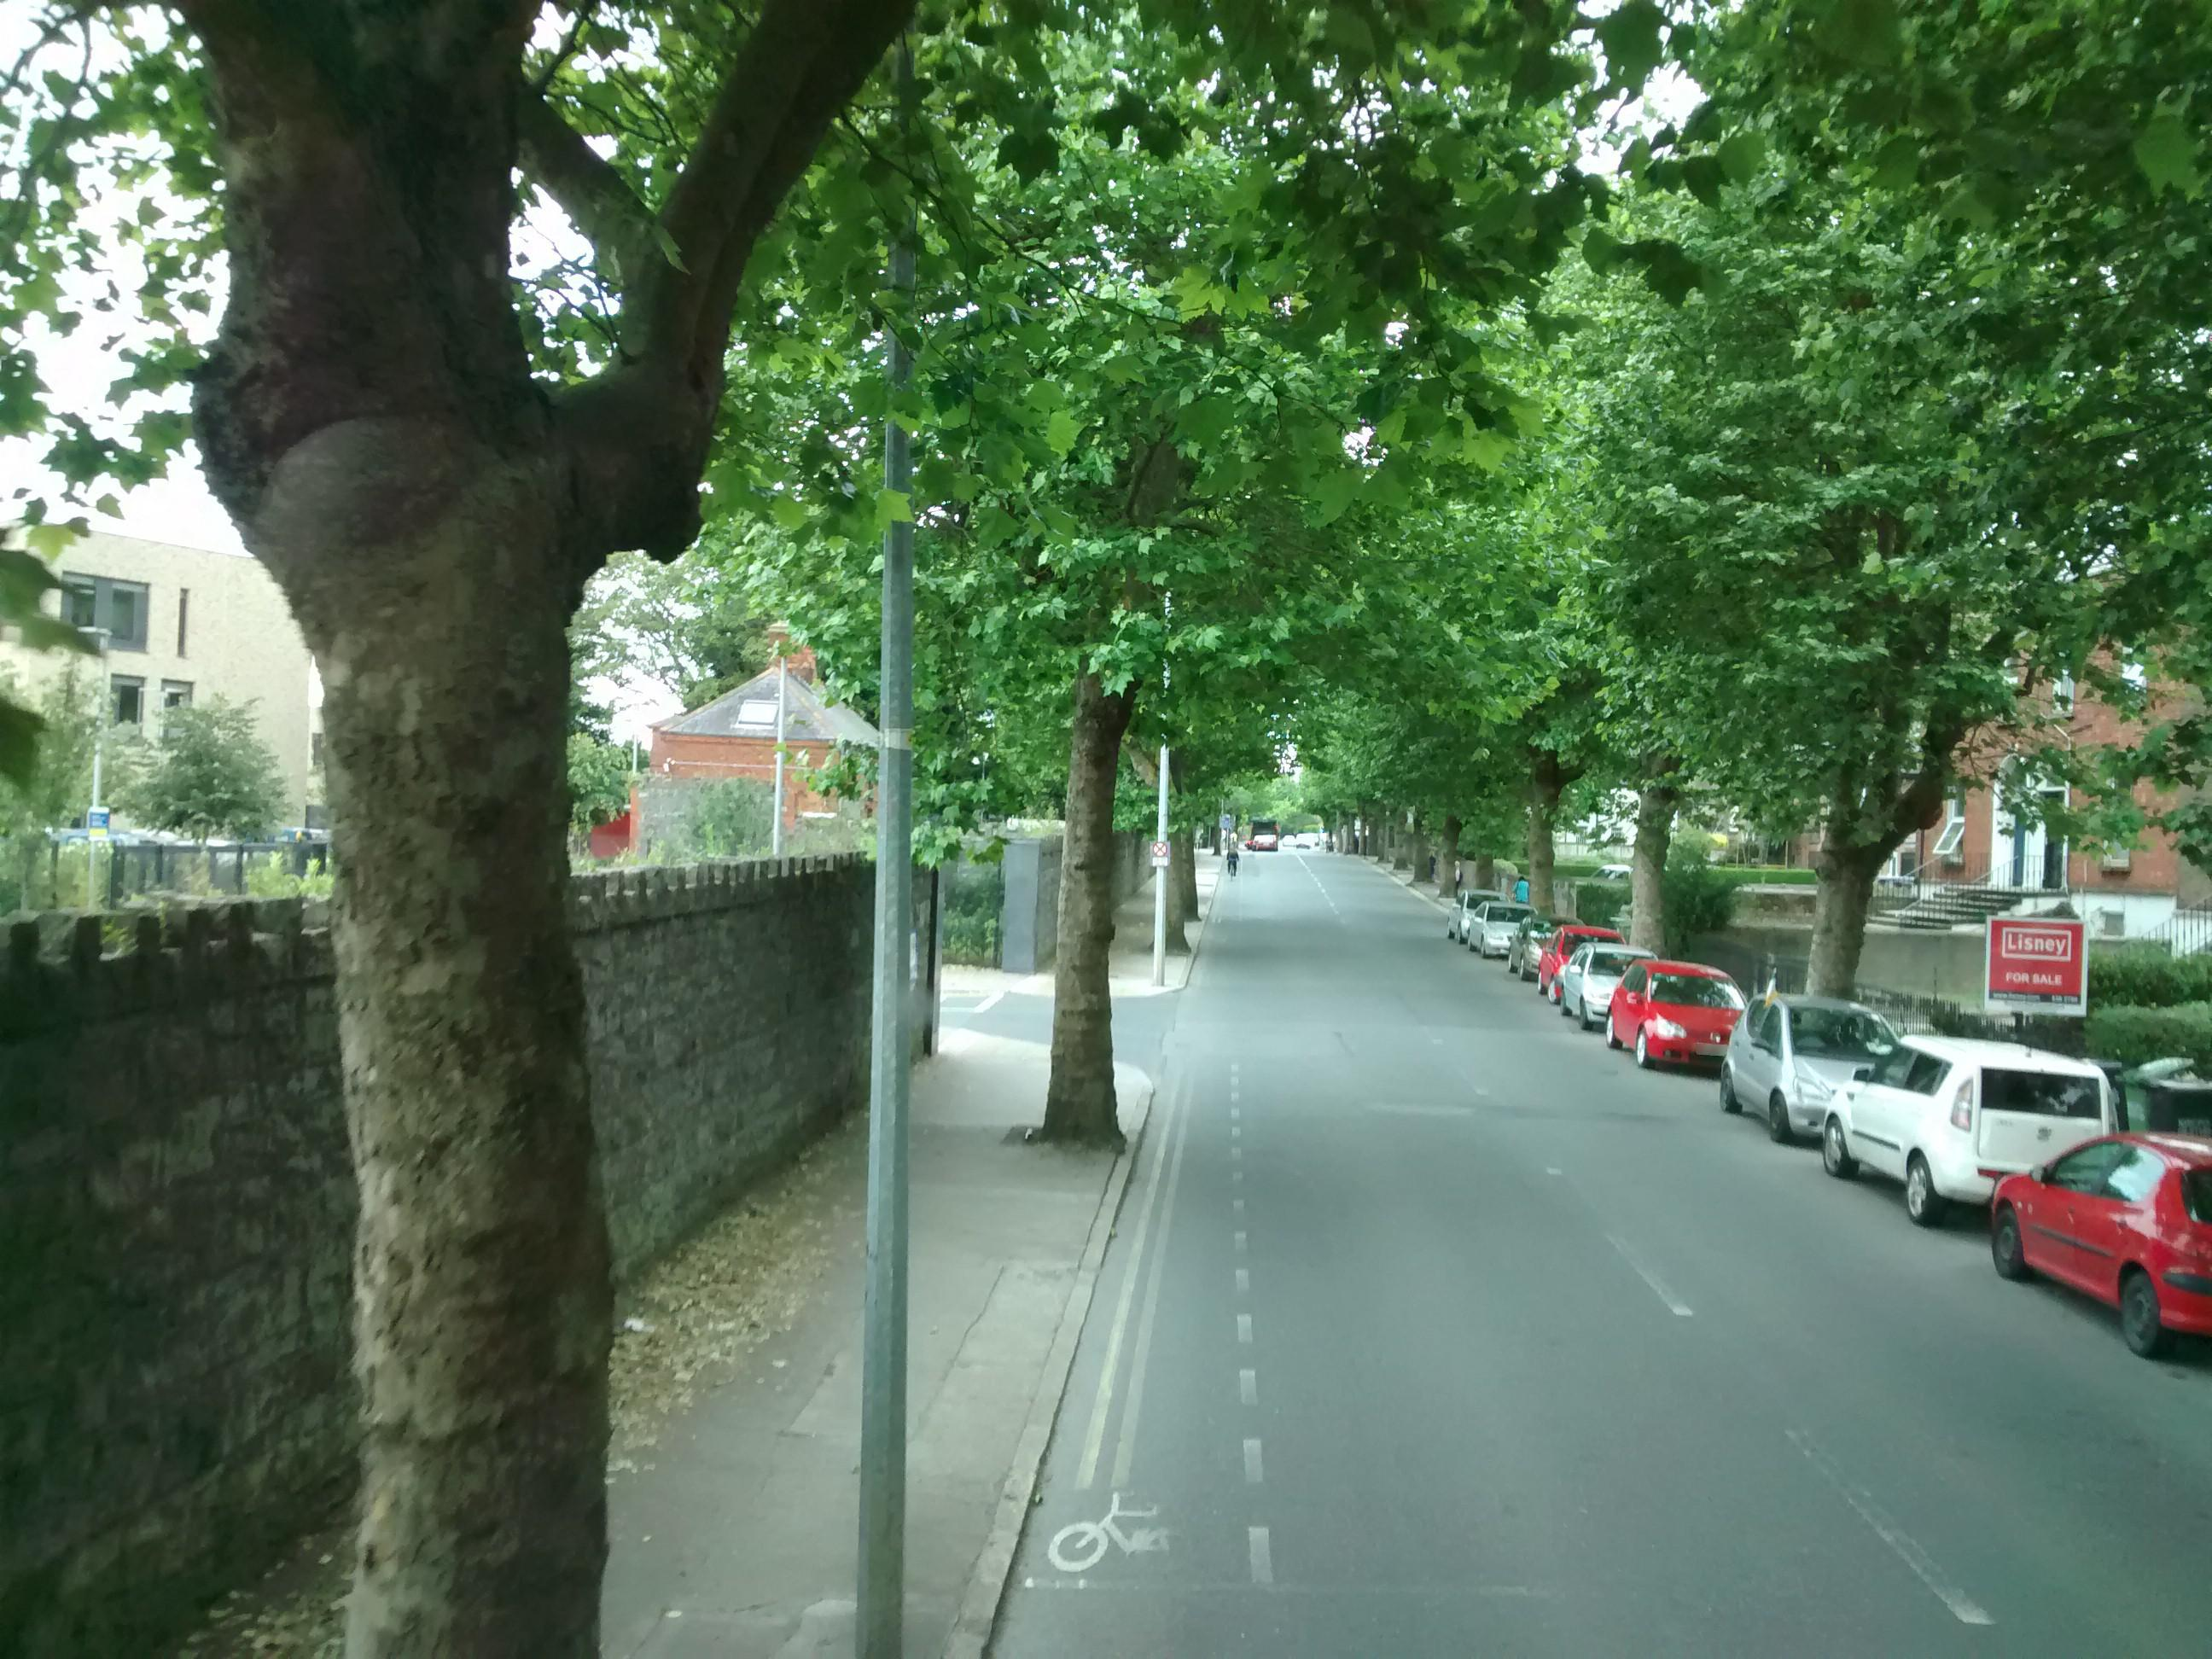property sign: (1972, 887, 2102, 1037)
